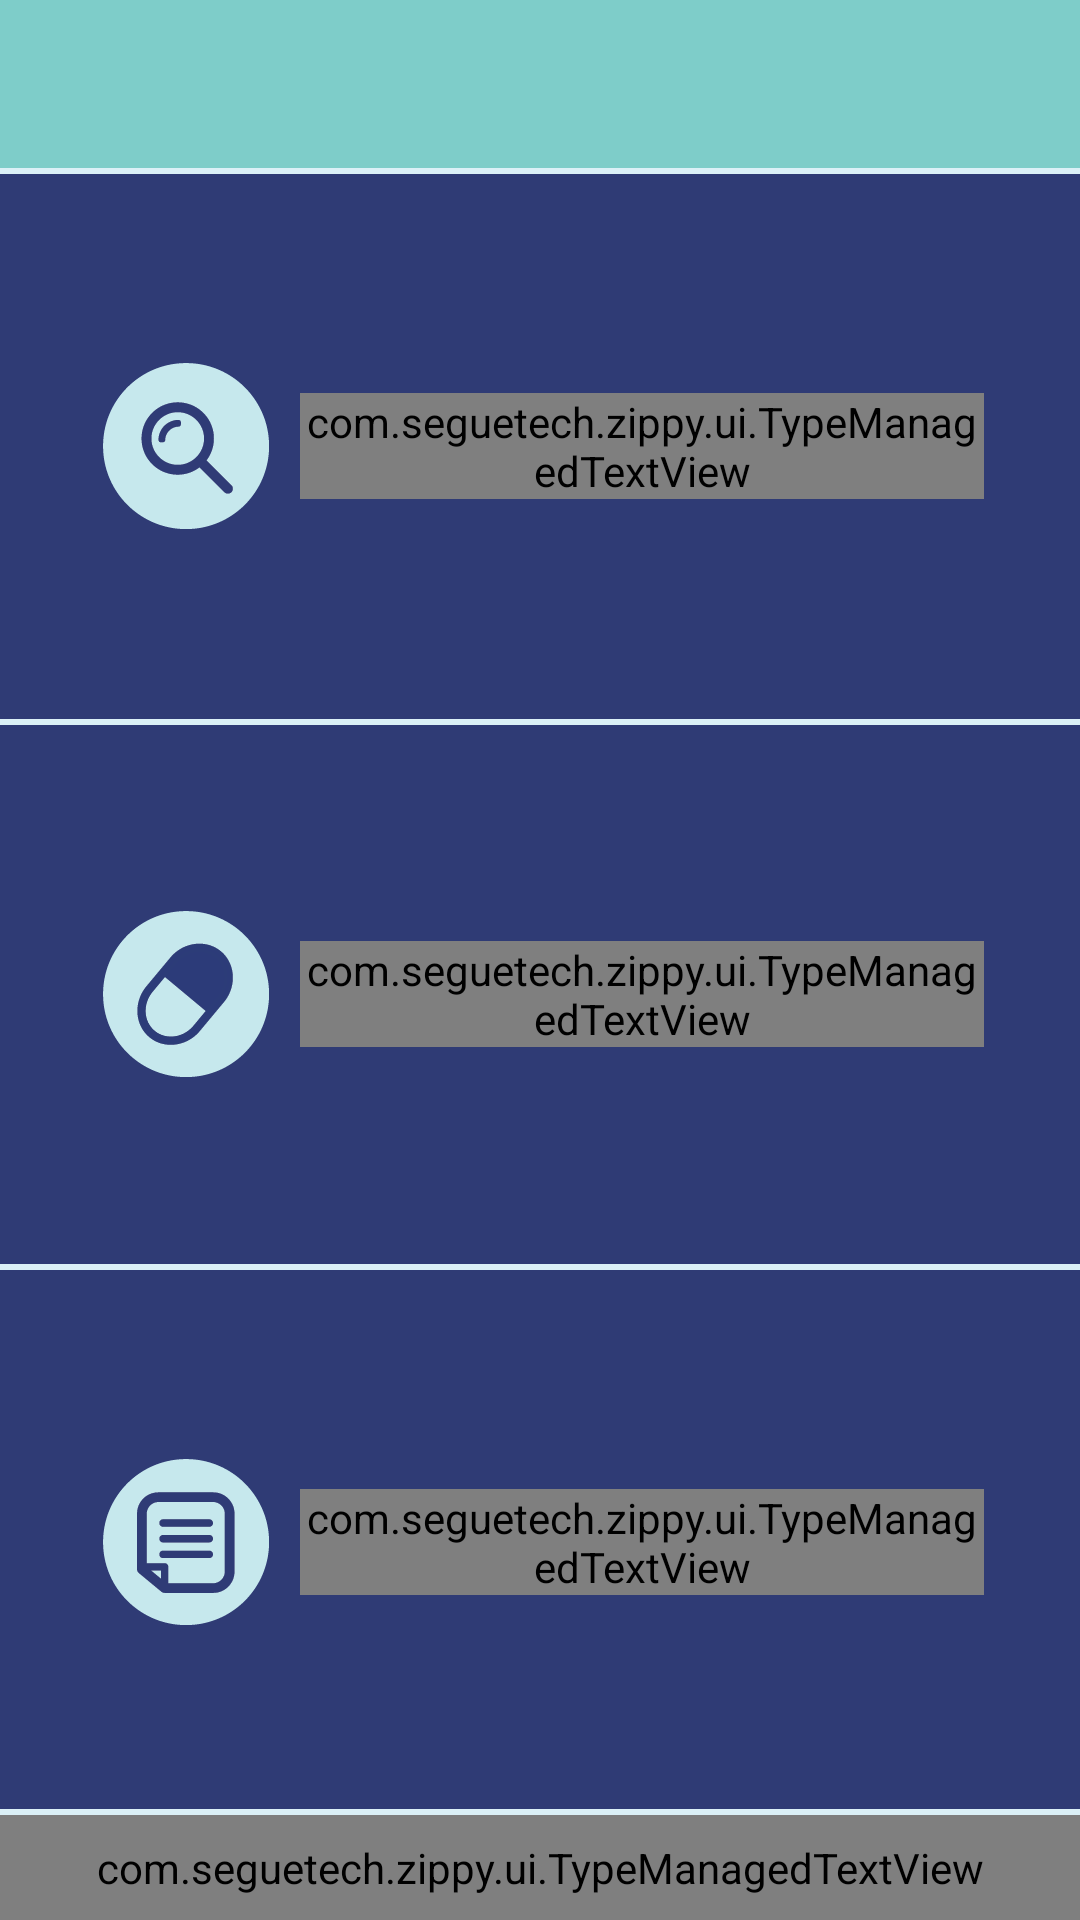

Screen size 1080 × 1920. Icon name, then its box in pixels as (x1, y1, x2, y2):
news: (103, 1459, 269, 1625)
search: (103, 363, 269, 529)
